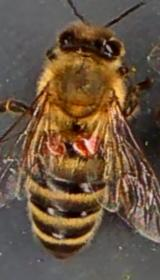varroa_mite: (41, 130, 68, 161), (69, 134, 97, 160)
